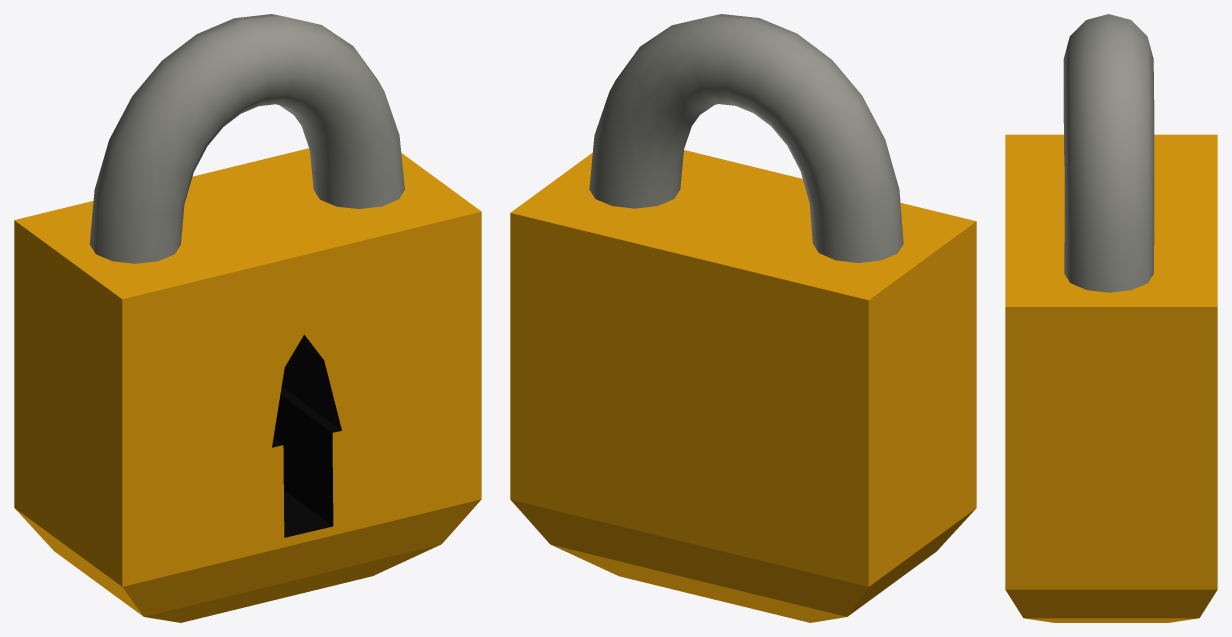
File: lock.fbx
3 views of the same model, side by side, from view 1: azimuth 30°, elevation 25°; view 2: azimuth 150°, elevation 25°; view 3: azimuth 270°, elevation 25° (orthographic).
Visible parts, largest first — view 1: Cube.007, BezierCurve; view 2: Cube.007, BezierCurve; view 3: Cube.007, BezierCurve.
Boxes of the visible parts, <box> form: Cube.007: <box>14,148,481,622</box>; BezierCurve: <box>89,14,404,263</box>; Cube.007: <box>510,150,976,622</box>; BezierCurve: <box>589,14,903,262</box>; Cube.007: <box>1005,134,1217,622</box>; BezierCurve: <box>1063,14,1154,292</box>.
Size of the model in its own units: 91.02 by 135 by 47.46.
